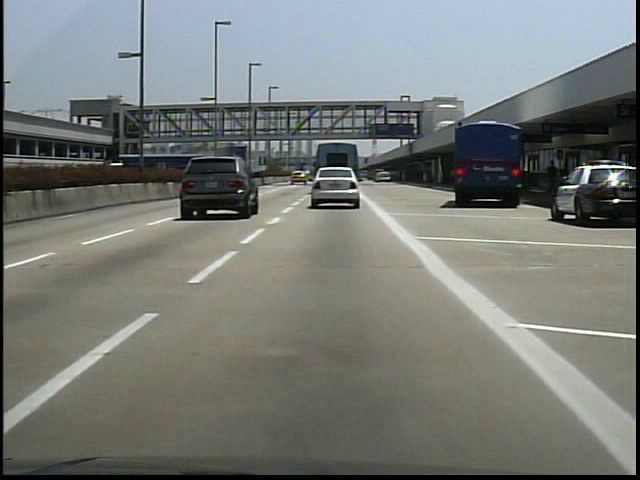person: (543, 157, 559, 193)
